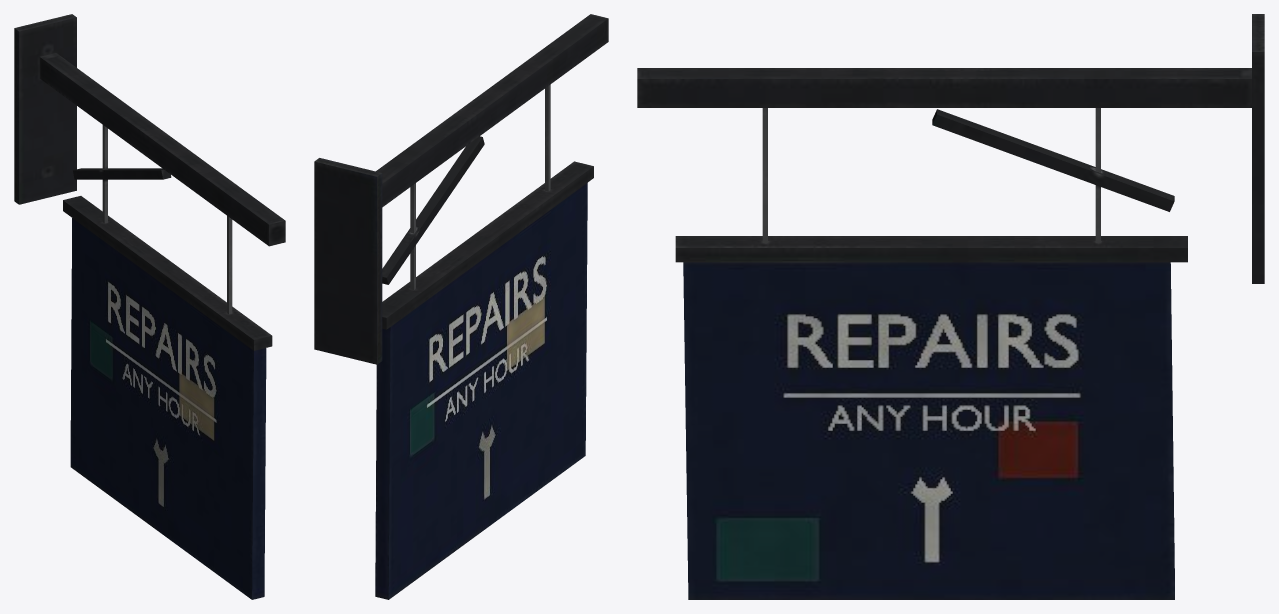
Rendered from shop_sign_repairs.glb.
The picture shows the model from 3 angles, left to right: view 1: azimuth 30°, elevation 25°; view 2: azimuth 150°, elevation 25°; view 3: azimuth 270°, elevation 25°; orthographic projection. The views are drawn at different scales.
Visible parts, largest first — view 1: shop_sign_repairs; view 2: shop_sign_repairs; view 3: shop_sign_repairs.
Part boxes in pixels (left/top/right/bottom): shop_sign_repairs: left=14, top=14, right=285, bottom=599; shop_sign_repairs: left=314, top=14, right=608, bottom=599; shop_sign_repairs: left=637, top=14, right=1264, bottom=599.
Bounding box in the file's own units: 0.14 × 0.97 × 0.98.
Materials: 1 (1 with a texture image).
